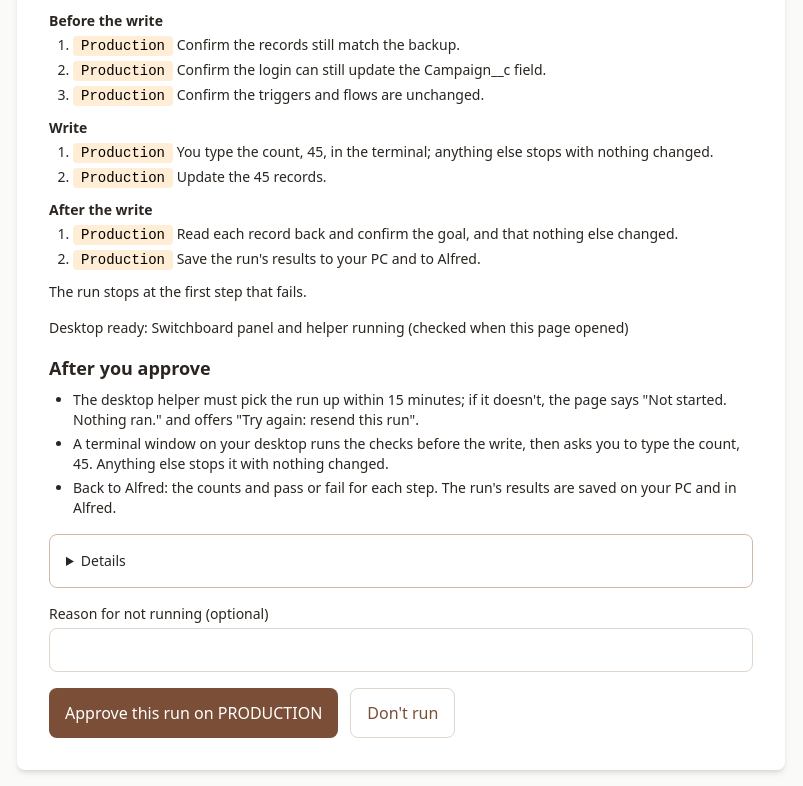
it: the live run route › Don't run: the cancel line with its note, from the function
The image size is (803, 786).
(page scrolled)
Check: the button with test id "run-approve" is shown, box [49,688,338,738]
Type "wait for Monday" into the field labelled "Reason for not running (optional)" at [401, 650], box [49,628,753,672]
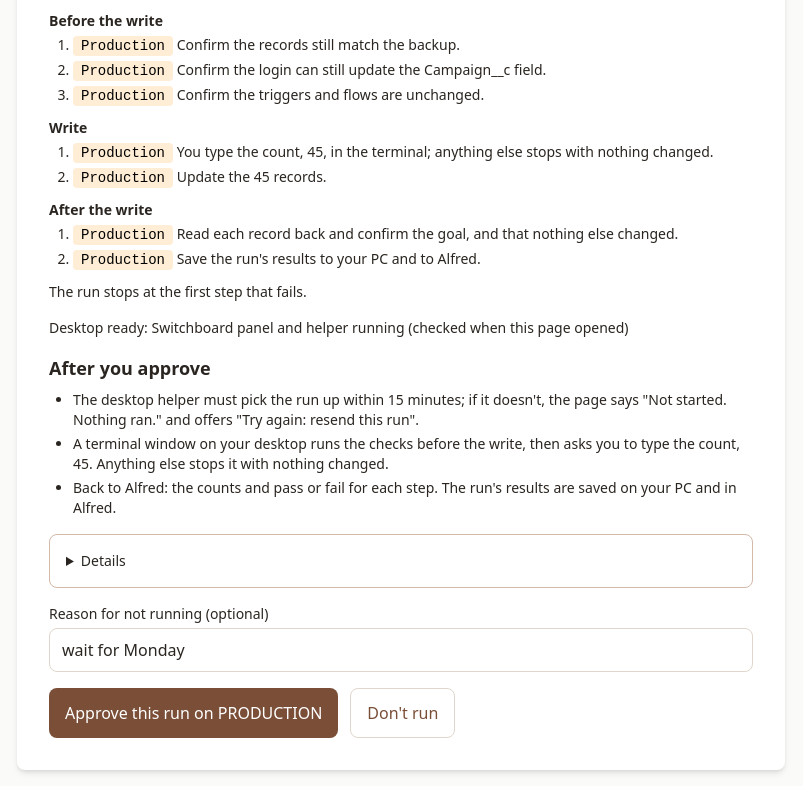
Click the button with test id "run-dont" at [403, 713], box [350,688,455,738]
(page scrolled)
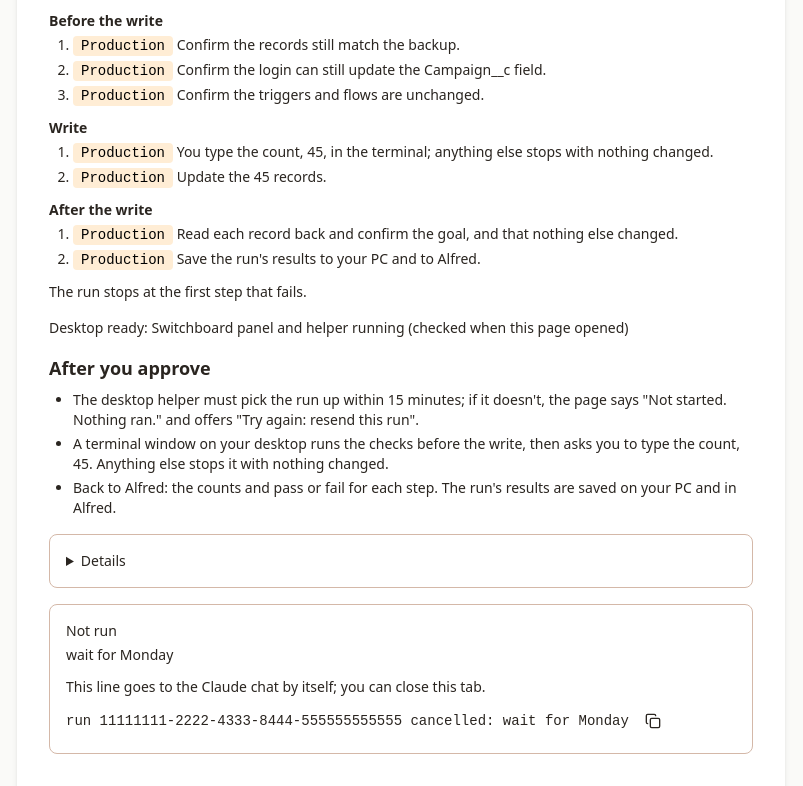
Check: the element with test id "run-cancelled" is shown, box [49,604,753,754]
